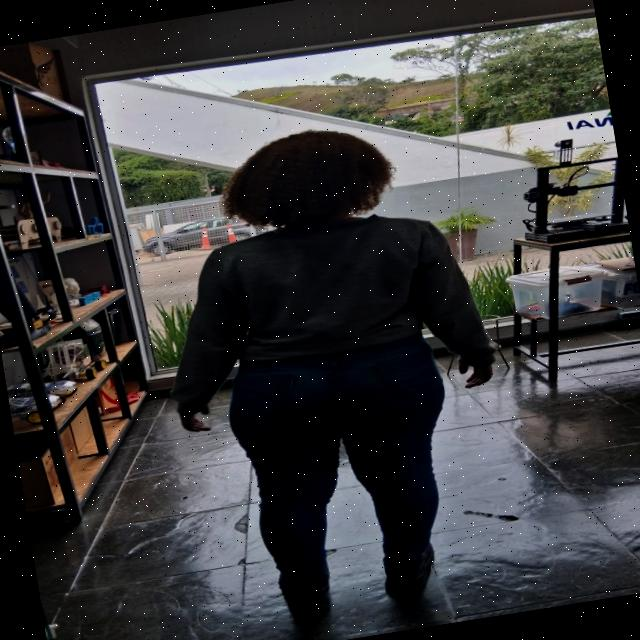BOTA: (259, 542, 344, 613), (376, 543, 443, 599)
SEM LUVA: (456, 346, 503, 396), (171, 393, 217, 431)
